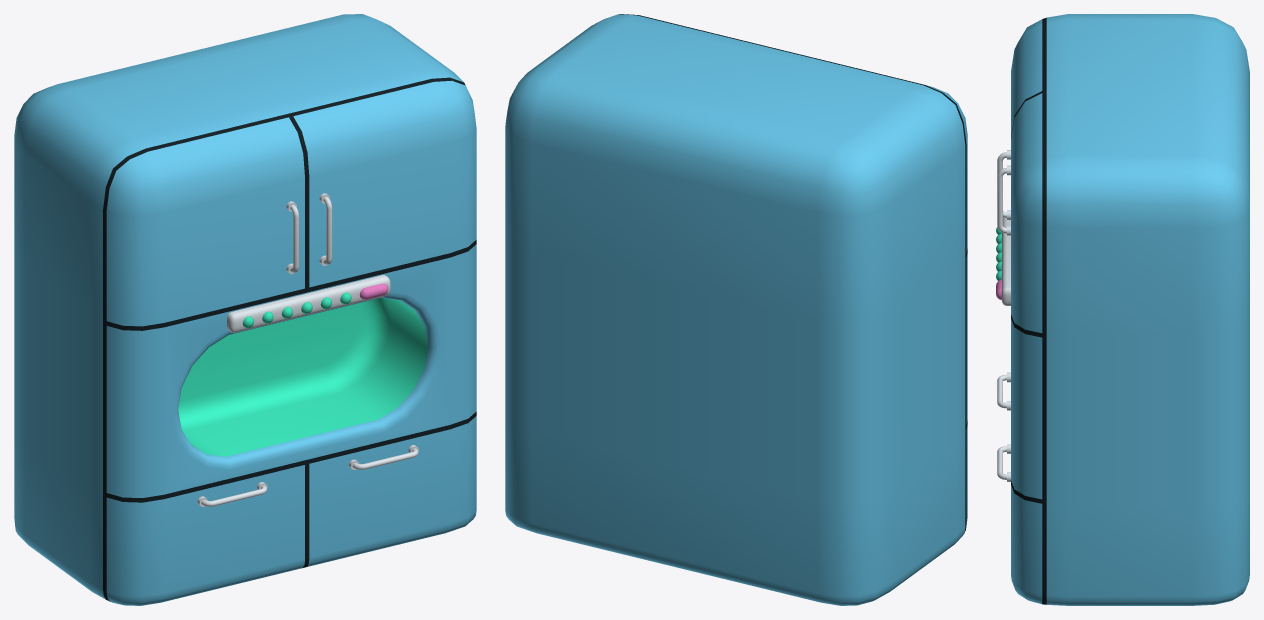
Rendered from Refrigerator_V3.fbx.
The picture shows the model from 3 angles, left to right: view 1: azimuth 30°, elevation 25°; view 2: azimuth 150°, elevation 25°; view 3: azimuth 270°, elevation 25°; orthographic projection. The views are drawn at different scales.
Parts seen in each view (by area): view 1: Box006; view 2: Box006; view 3: Box006.
Part boxes in pixels (x1=…): Box006: x1=14, y1=14, x2=476, y2=605; Box006: x1=505, y1=14, x2=967, y2=605; Box006: x1=996, y1=14, x2=1249, y2=605.
Bounding box in the file's own units: 176 × 200 × 106.
